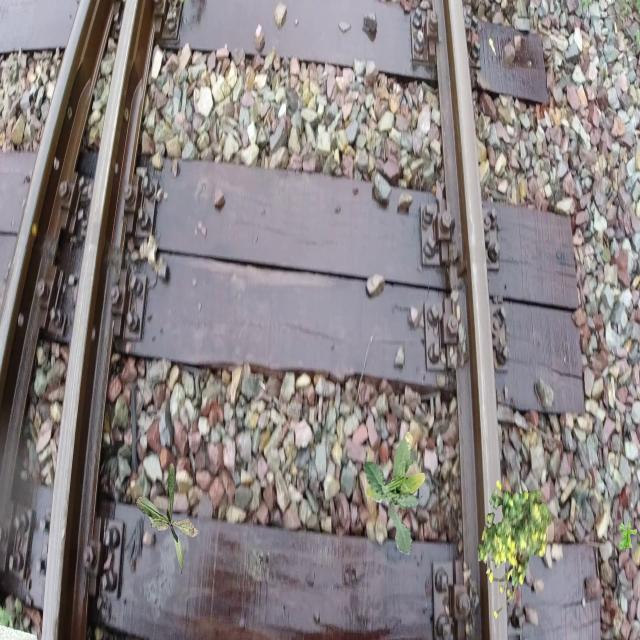Plant: (478, 480, 553, 620), (364, 431, 426, 556), (136, 463, 200, 575), (620, 521, 638, 553)
